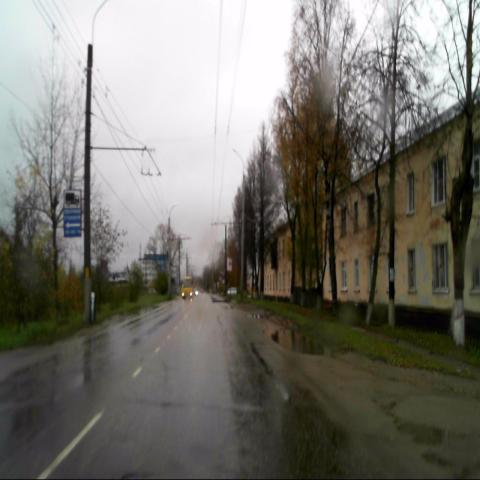8_4_1: (63, 188, 82, 207)
